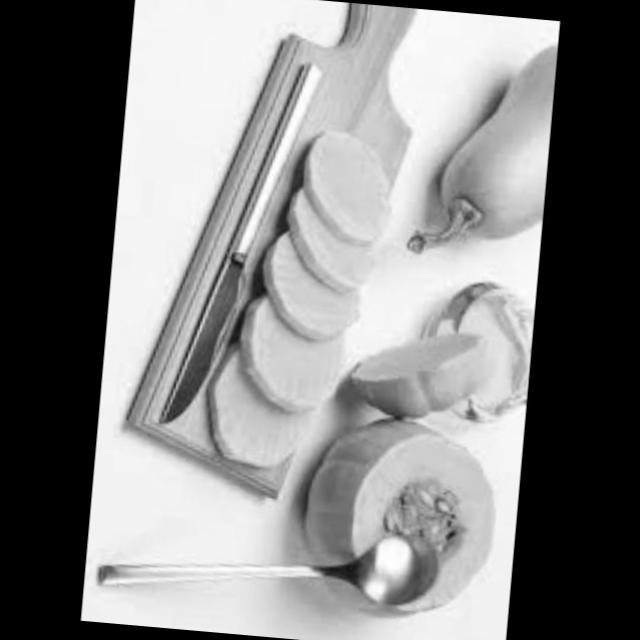pumpkin: (297, 404, 506, 622), (402, 33, 559, 274), (339, 317, 489, 426), (219, 292, 356, 411), (203, 348, 325, 476), (251, 224, 373, 340), (289, 116, 406, 233), (272, 188, 390, 294)
